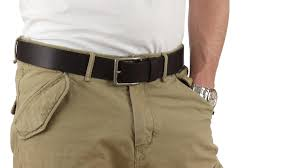F_belt: (14, 34, 196, 92)
